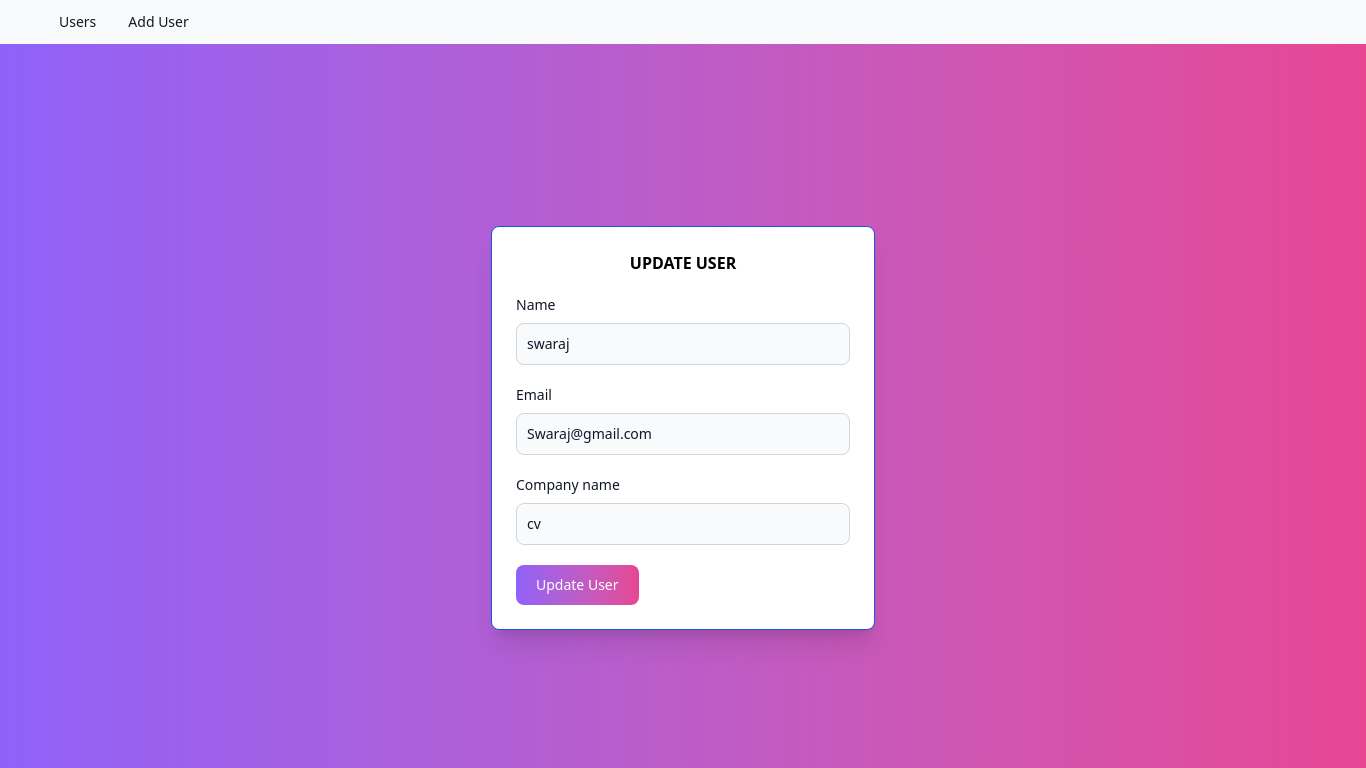
UserForm Component › edits a user and navigates back to list
Replace the text in the field showing "swaraj" with "Swaraj Updated" at (683, 344), box [516,323,850,365]
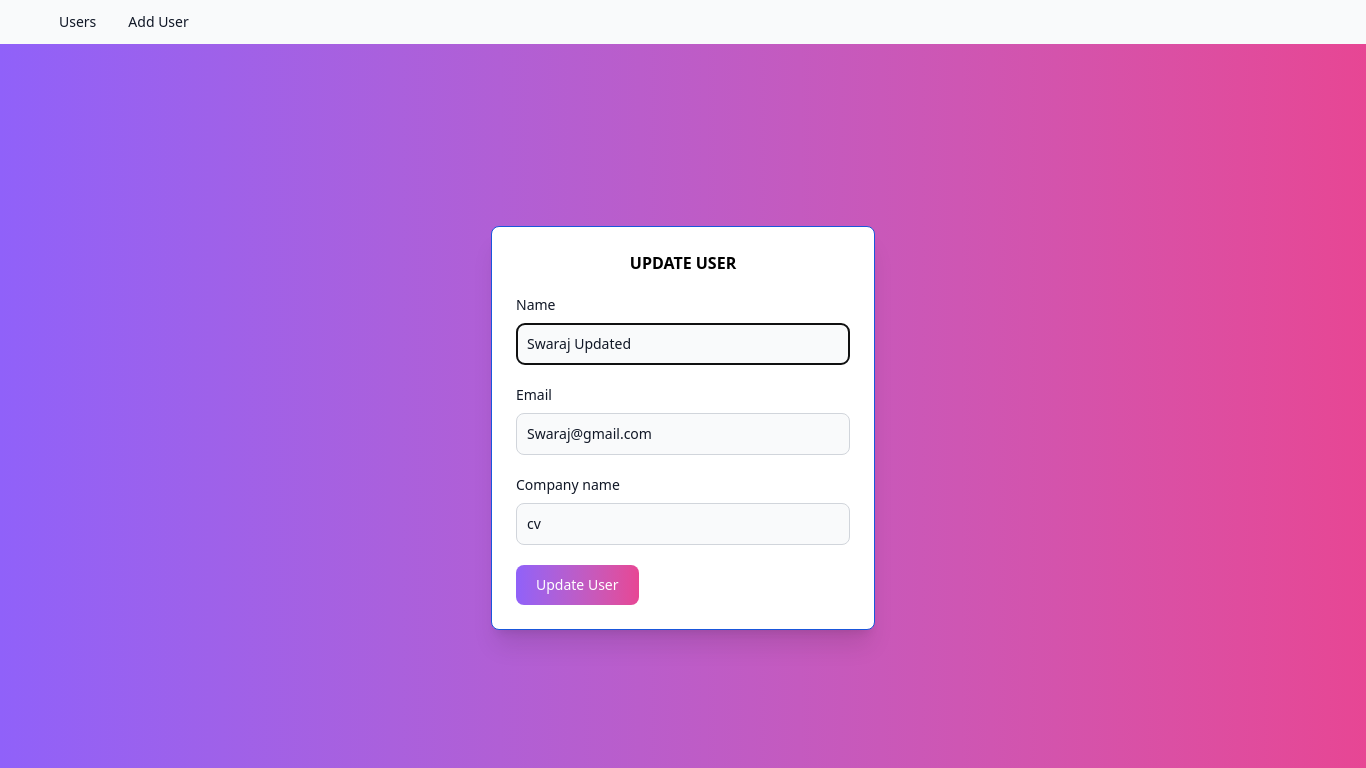
Replace the text in the field labelled "Email" with "swaraj.updated@example.com" at (683, 434), box [516,413,850,455]
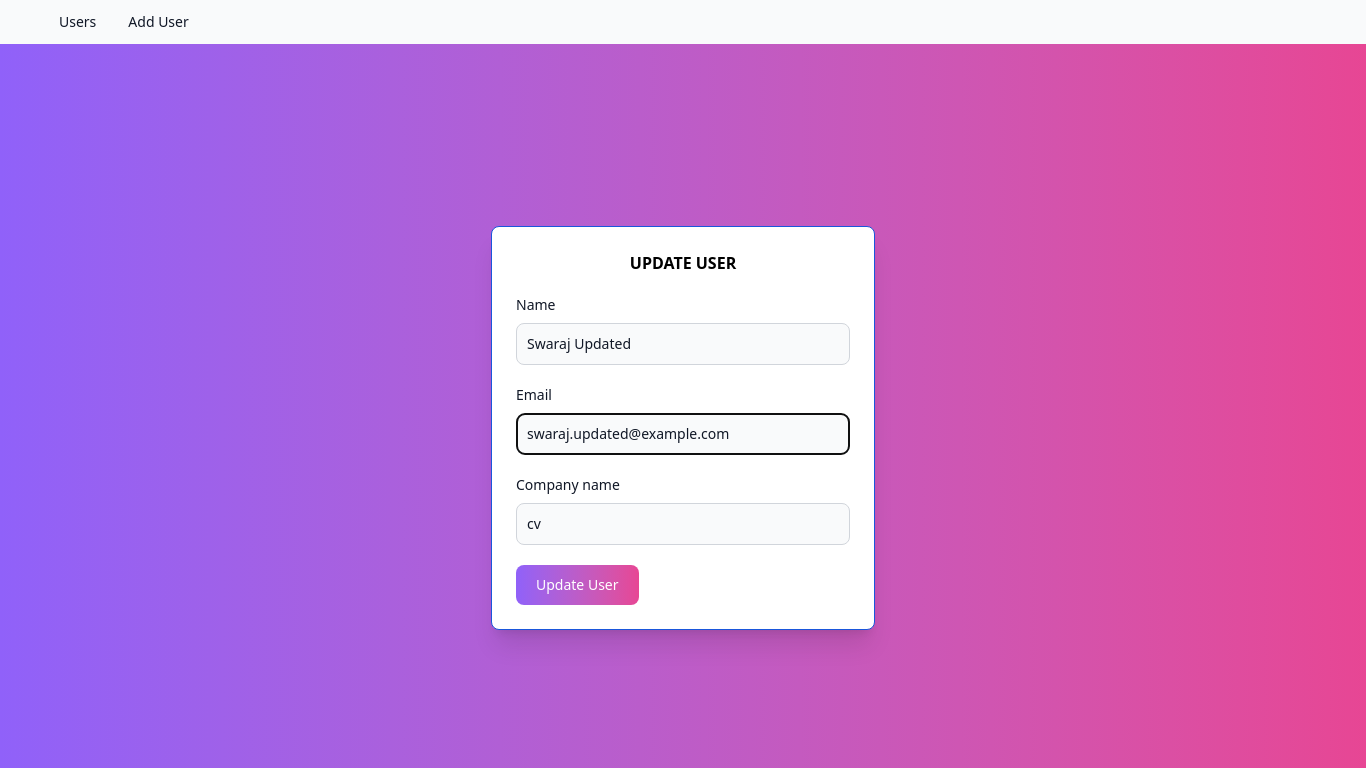
Click the button "Update User" at (577, 585), box [516,565,638,605]
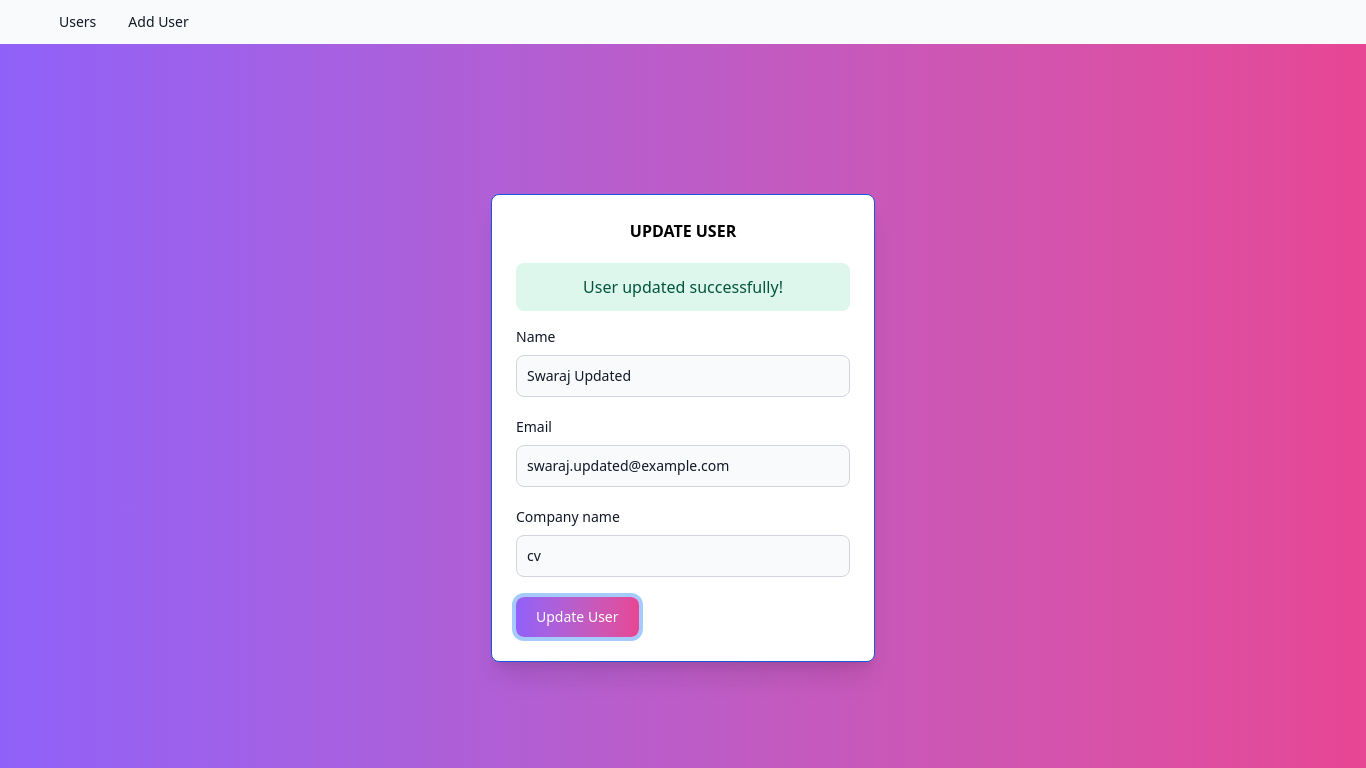
expect the text "User updated successfully!" is shown: met, box [516,263,850,311]
